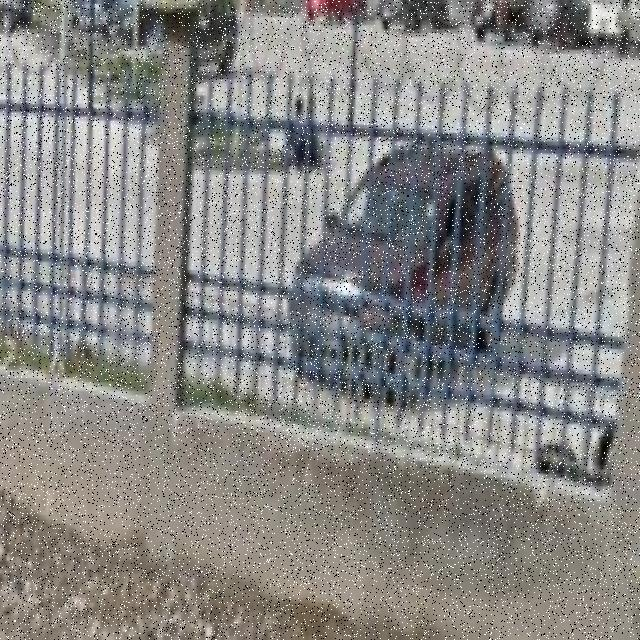cars: (293, 126, 529, 406)
